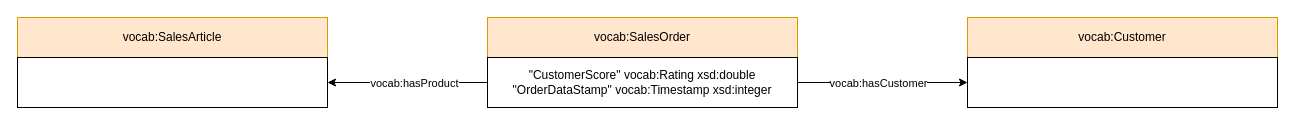
Some shapes in this 1295 by 125 pixel diagram are drawn without their labels. The shapes that lost their labels are listed below. From the top down, each one's centre as x and y in pixels, then its label:
pixel 172 82: "ArticleNumber" vocab:ProductID xsd:string
pixel 1122 82: "CustomerNumber" vocab:UserID xds:string
